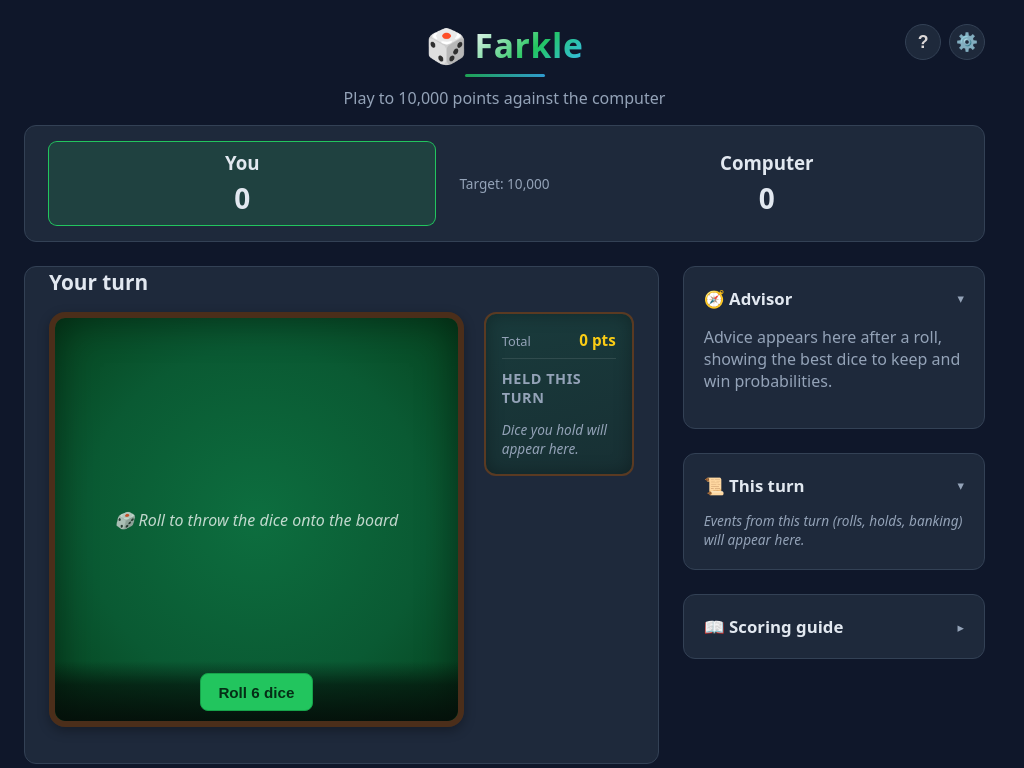
App integration › renders the scoreboard and lets the human roll, see advice, and bank points
This screenshot has width=1024, height=768.
Expected: the heading "Your turn" is shown, [49,268,148,296]
Click the button "Roll 6 dice": (256, 692) [200,673,313,711]
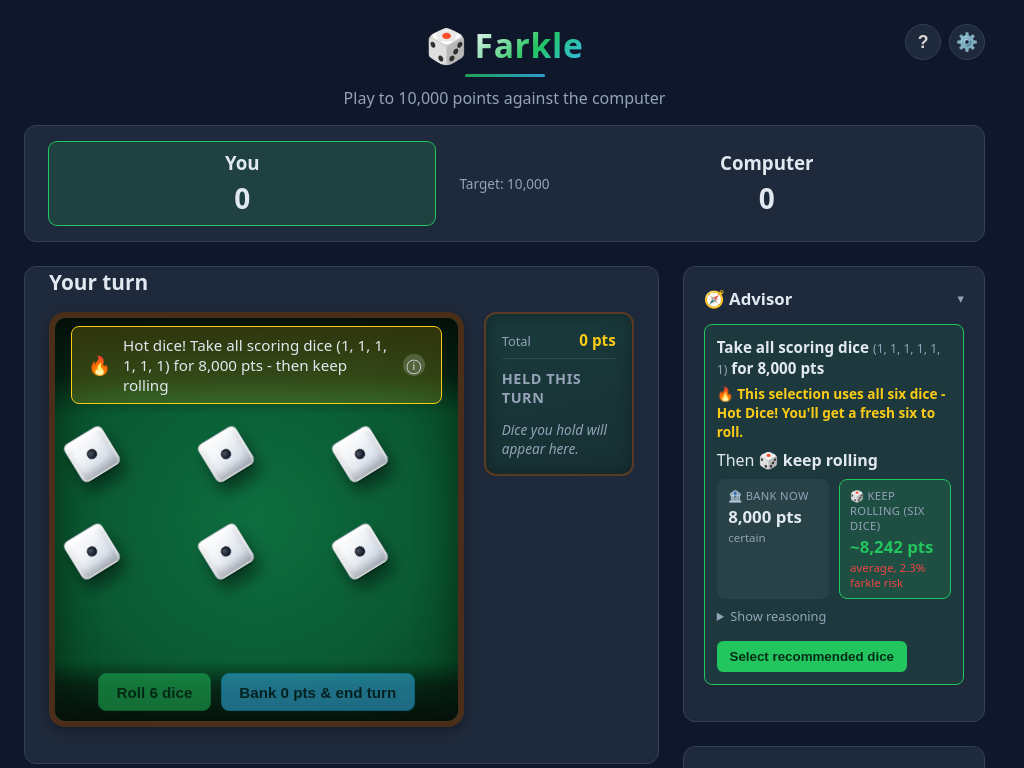
Expected: the text "🧭 Advisor" is shown, [704,287,792,310]
Result: the button "Select recommended dice" is shown
Click the button "Select recommended dice": (812, 657) [717,642,907,672]
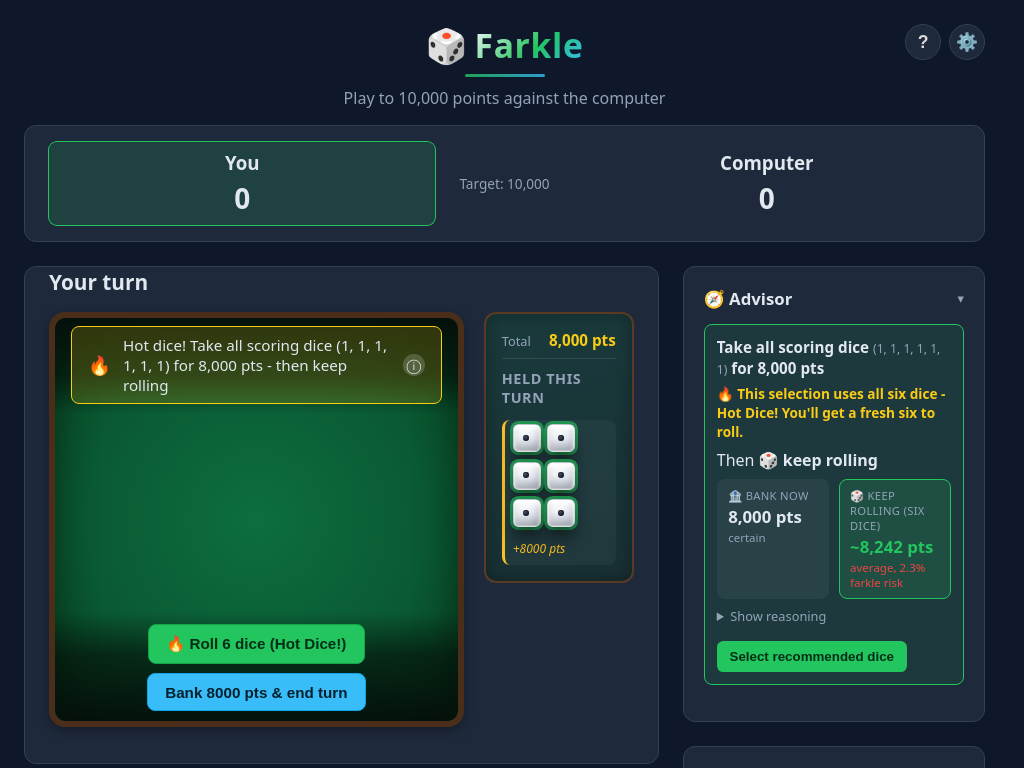
Result: the text "Bank 8000 pts & end turn" is shown at [165,684,348,701]
